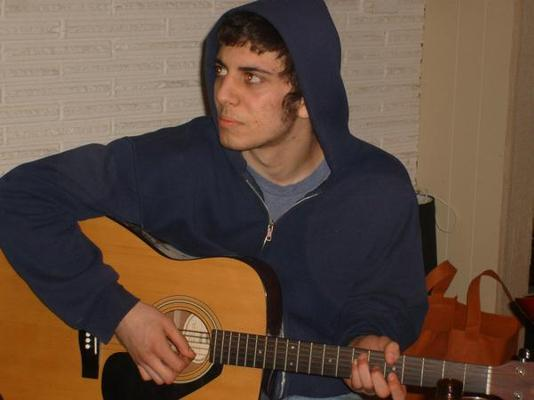person: (4, 4, 430, 399)
